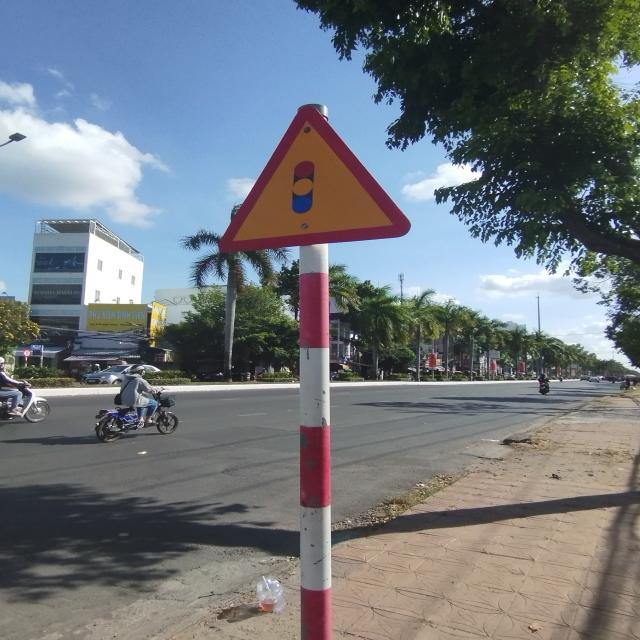Duong_Co_Go_Giam_Toc: (216, 102, 412, 254)
